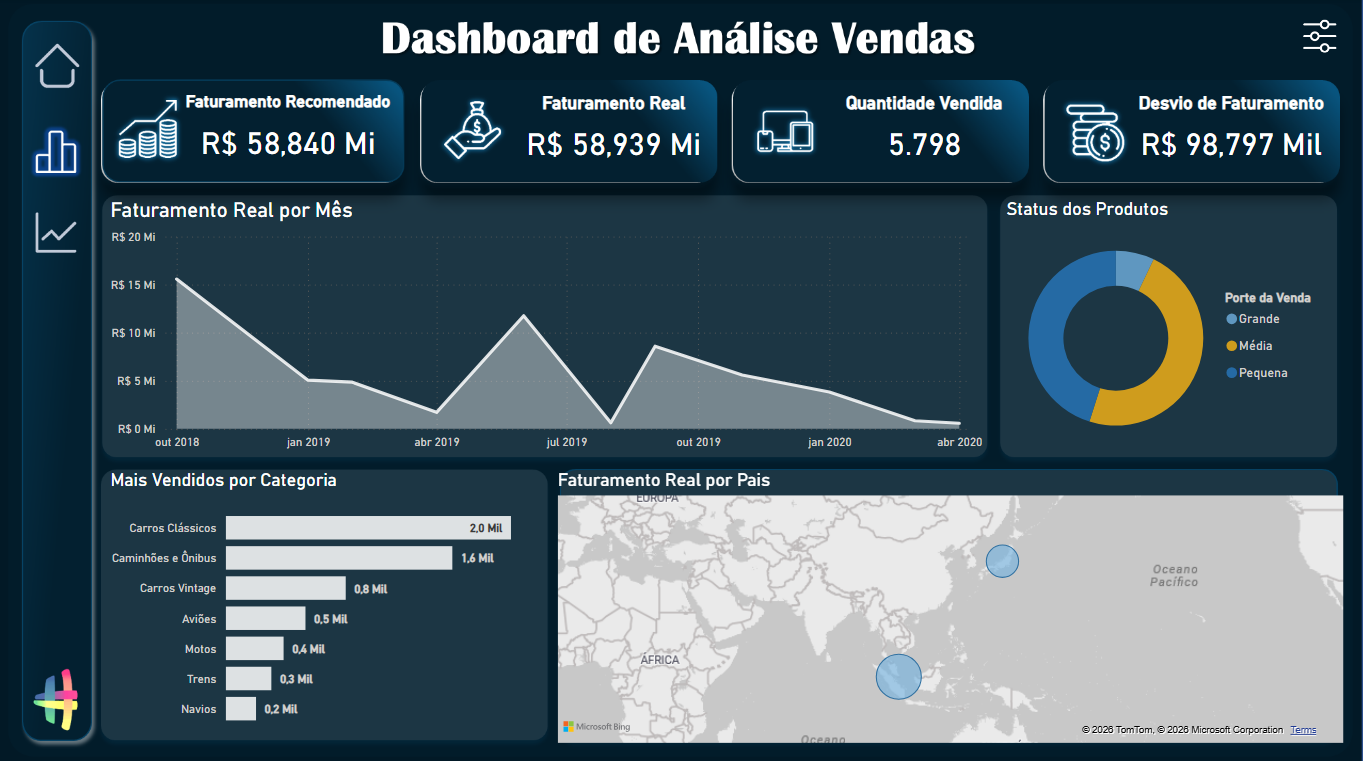

This screenshot's page, from the dashboard's own definition file:
{"tool":"powerbi","page":{"name":"Inicial","canvas":[1280,720],"ordinal":1},"visuals":[{"type":"card","title":"Faturamento Recomendado","fields":{"Values":["Medidas.Faturamento Total Previsto"]},"box":[168.9,89.5,207,73.8],"z":0},{"type":"card","title":"Faturamento Real","fields":{"Values":["Medidas.Faturamento Total Real"]},"box":[474.6,89.5,203.9,73.6],"z":1000},{"type":"card","title":"Quantidade Vendida","fields":{"Values":["Medidas.Qtde Vendida"]},"box":[770.8,89.5,194.7,73.8],"z":2000},{"type":"card","title":"Desvio de Faturamento","fields":{"Values":["Medidas.Desvio de Preço"]},"box":[1056.3,89.2,199.7,73.6],"z":3000},{"type":"stackedAreaChart","title":"Faturamento Real por Mês","fields":{"Category":["dCalendario.Inicio do Mês"],"Y":["Medidas.Faturamento Total Real"]},"box":[100.4,188.5,827.7,243.2],"z":4000},{"type":"image","title":"Botão de Filtro","box":[1219.2,21.2,39,31.2],"z":5000},{"type":"clusteredBarChart","title":"Mais Vendidos por Categoria","fields":{"Y":["Medidas.Qtde Vendida"],"Category":["dProduto.Categoria"]},"box":[100.4,442.8,413.8,252.1],"z":6000},{"type":"map","title":"Faturamento Real por Pais","fields":{"Category":["dLocalidade.Pais"],"Size":["Medidas.Faturamento Total Real"]},"box":[519.8,442.8,746.2,261],"z":7000},{"type":"actionButton","title":"Botão Capa","box":[22.3,37.2,68.3,60.8],"z":8000},{"type":"donutChart","title":"Status dos Produtos","fields":{"Y":["Medidas.Qtde Vendida"],"Series":["fVendas.Porte da Venda1"]},"box":[940.3,188.5,317.9,243.2],"z":9000},{"type":"actionButton","box":[22.6,191.3,67.8,57.1],"z":11000},{"type":"actionButton","title":"Botão Capa","box":[21.1,187.5,68.3,60.8],"z":12000}]}

Visuals, with their boxes on the page's 1280x720 design canvas (x1, y1, x2, y2). These are canvas units, not pixel positions in the 1363x761 screenshot, which may show the page scaled, cropped or inside an application window:
"Faturamento Recomendado" card: select_region(169, 90, 376, 163)
"Faturamento Real" card: select_region(475, 90, 678, 163)
"Quantidade Vendida" card: select_region(771, 90, 966, 163)
"Desvio de Faturamento" card: select_region(1056, 89, 1256, 163)
"Faturamento Real por Mês" stackedAreaChart: select_region(100, 188, 928, 432)
"Botão de Filtro" image: select_region(1219, 21, 1258, 52)
"Mais Vendidos por Categoria" clusteredBarChart: select_region(100, 443, 514, 695)
"Faturamento Real por Pais" map: select_region(520, 443, 1266, 704)
"Botão Capa" actionButton: select_region(22, 37, 91, 98)
"Status dos Produtos" donutChart: select_region(940, 188, 1258, 432)
actionButton: select_region(23, 191, 90, 248)
"Botão Capa" actionButton: select_region(21, 188, 89, 248)
